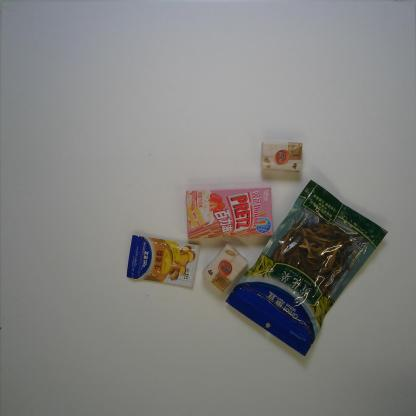Dessert: (184, 185, 274, 241)
Dried Food: (224, 180, 388, 359)
Seasoner: (124, 233, 201, 288)
Tissue: (199, 240, 248, 294), (260, 140, 303, 174)
